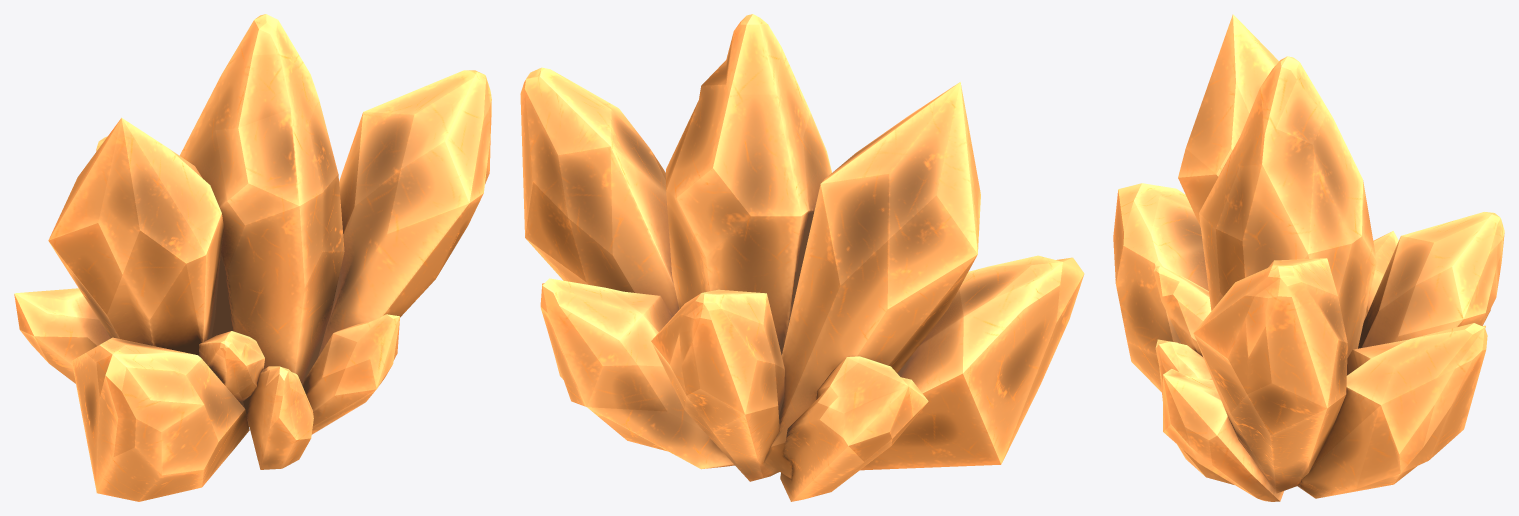
The model's file is mendiane.glb.
The picture shows the model from 3 angles, left to right: view 1: azimuth 30°, elevation 25°; view 2: azimuth 150°, elevation 25°; view 3: azimuth 270°, elevation 25°; orthographic projection. The views are drawn at different scales.
Visible parts, largest first — view 1: Cylinder.002; view 2: Cylinder.002; view 3: Cylinder.002.
Part boxes in pixels (x1=…): Cylinder.002: x1=14, y1=14, x2=491, y2=501; Cylinder.002: x1=520, y1=14, x2=1084, y2=501; Cylinder.002: x1=1113, y1=14, x2=1504, y2=501.
Size of the model in its own units: 2.77 by 2.46 by 2.
Materials: 1 (1 with a texture image).
